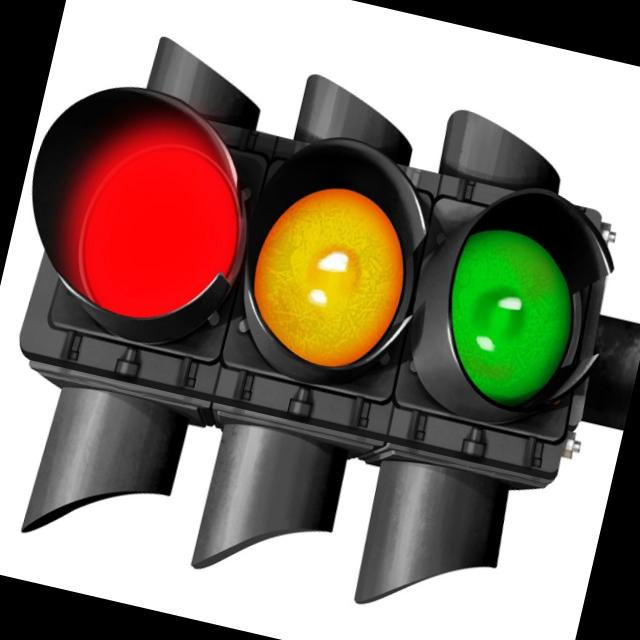green-lights: (425, 205, 596, 422)
red-lights: (49, 116, 257, 344)
yellow-lights: (240, 166, 427, 381)
